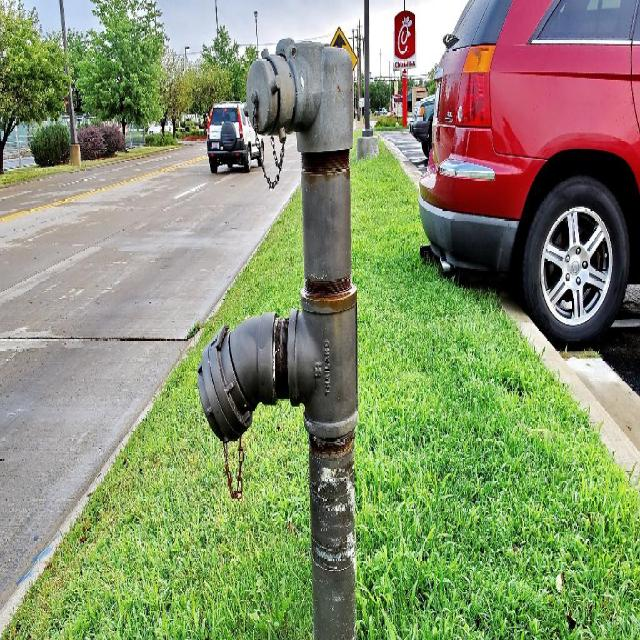fire_hydrant: (196, 34, 358, 639)
